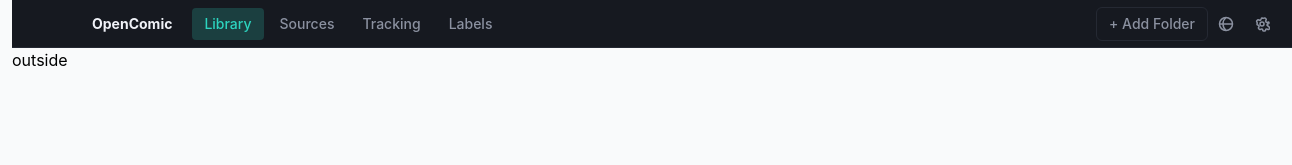
Test: TopNav – settings dropdown › clicking outside closes the dropdown
Click the button named "settings". click: (1262, 24)
box: [1248,10,1276,38]
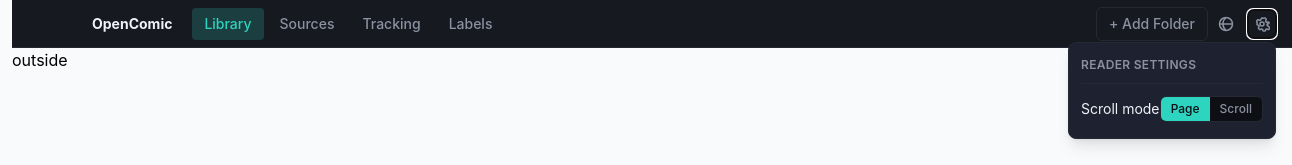
Expected: the text "Reader Settings" is shown, [1081,56,1196,72]
Click the text with test id "outside". click: (40, 60)
box: [12,50,68,70]
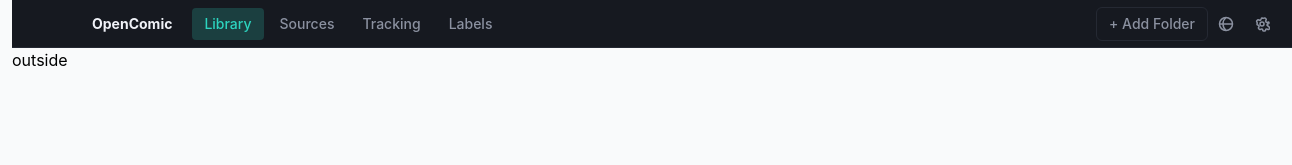
Expected: the text "Reader Settings" is gone
